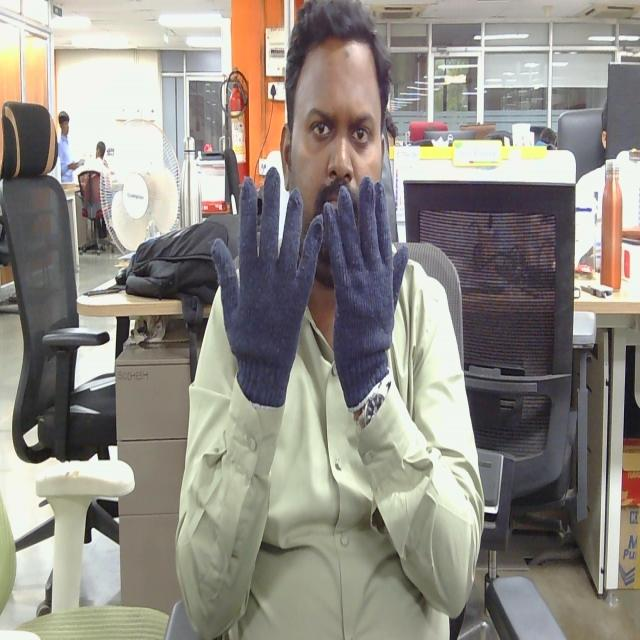Gloves-Detection: (208, 160, 321, 410), (316, 172, 409, 412)
